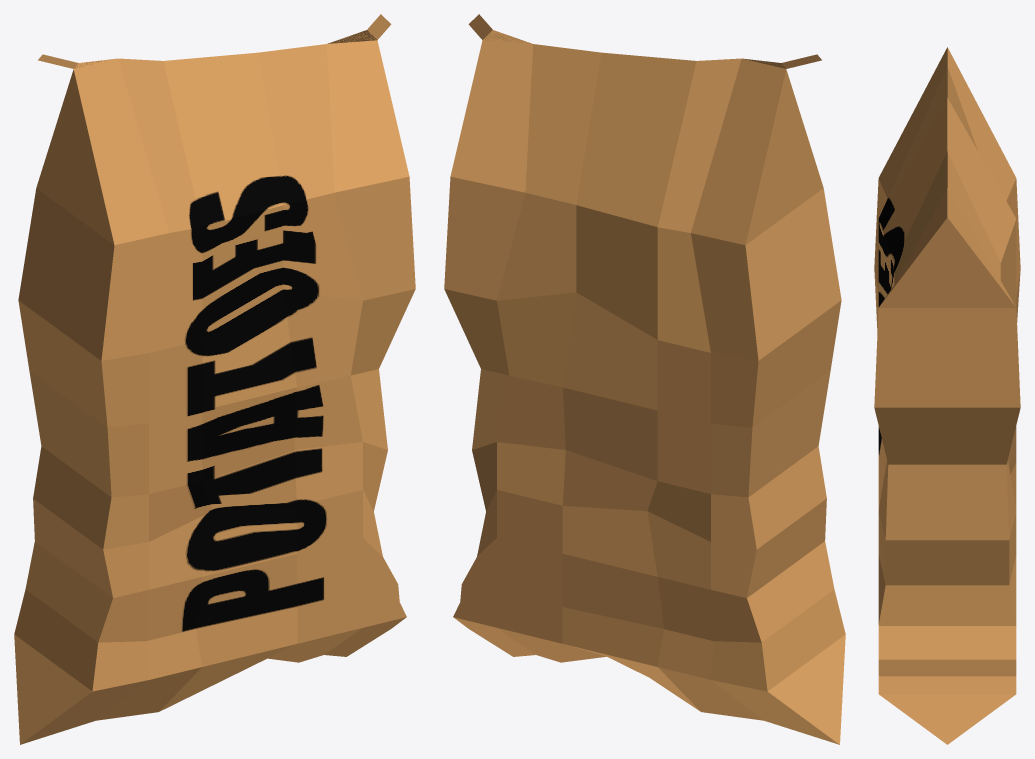
File: sackPotats.glb
3 renders of one model, left to right at view 1: azimuth 30°, elevation 25°; view 2: azimuth 150°, elevation 25°; view 3: azimuth 270°, elevation 25°, orthographic. The views are drawn at different scales.
Parts seen in each view (by area): view 1: Cube; view 2: Cube; view 3: Cube.
Boxes of the visible parts, x1=… form: Cube: x1=14, y1=14, x2=415, y2=744; Cube: x1=444, y1=14, x2=845, y2=744; Cube: x1=874, y1=47, x2=1020, y2=744.
Bounding box in the file's own units: 2.28 × 4.03 × 0.885.
1 material, 1 textured.
